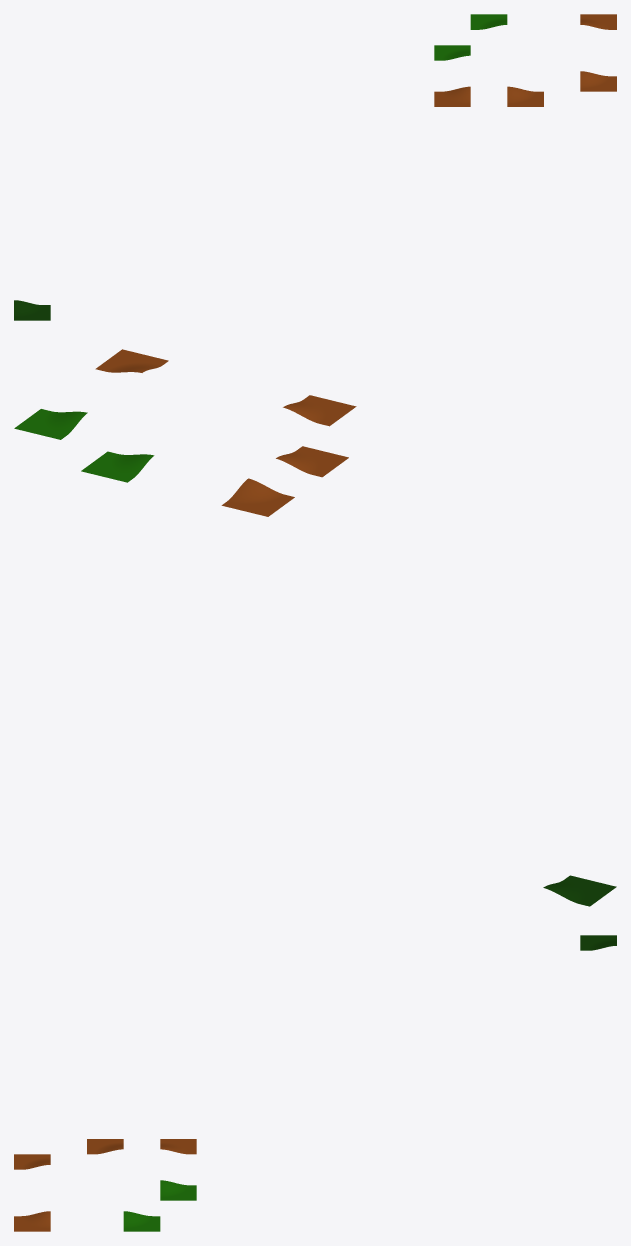
Rendered from Terrain_Part_Edge_Out.glb.
3 views of the same model, one above another, from view 1: azimuth 90°, elevation 25°; view 2: azimuth 150°, elevation 25°; view 3: azimuth 270°, elevation 25° (orthographic). The views are drawn at different scales.
Parts seen in each view (by area): view 1: Terrain_Part_Edge_Out.007; view 2: Terrain_Part_Edge_Out.007; view 3: Terrain_Part_Edge_Out.007.
Part boxes in pixels (x1,y1,x2,y2): Terrain_Part_Edge_Out.007: (14,14,616,320); Terrain_Part_Edge_Out.007: (14,349,616,906); Terrain_Part_Edge_Out.007: (14,935,616,1231).
Bounding box in the file's own units: 390 × 6 × 330.
